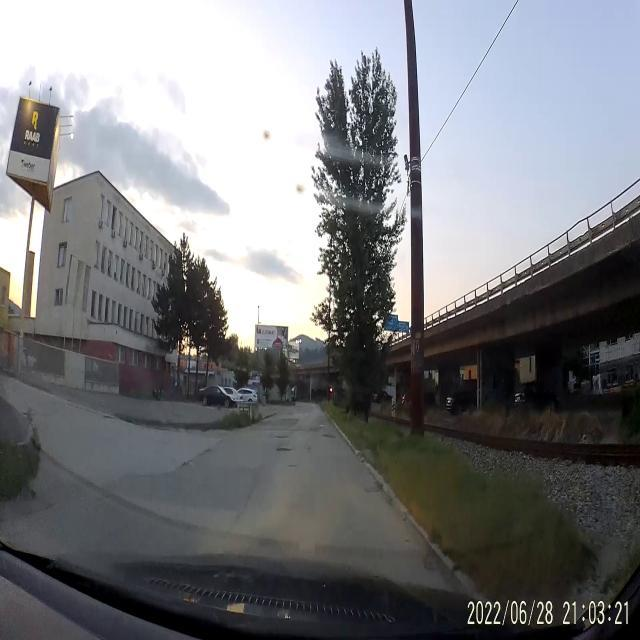Manhole: (322, 432, 336, 438), (364, 487, 380, 492)
Pothole: (276, 446, 294, 454), (274, 434, 288, 439), (288, 464, 296, 467)
